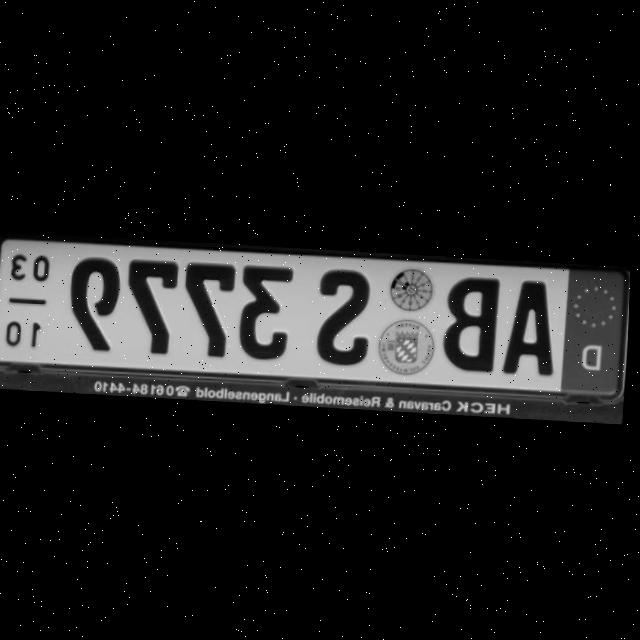license-plates: (0, 237, 629, 398)
